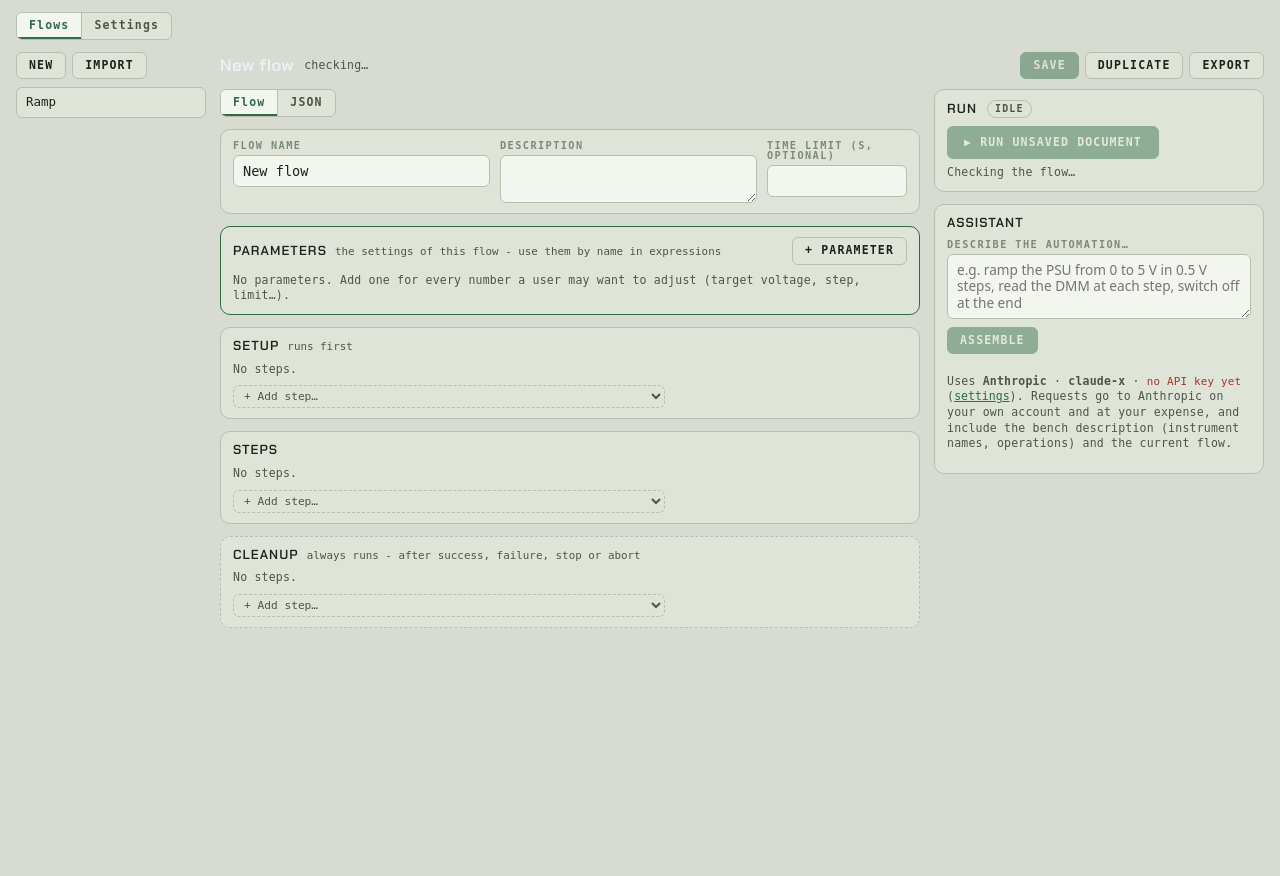
Test case: run panel › cancel in the arm dialog sends nothing more; busy (409) is shown
The width and height of the screenshot is (1280, 876).
Click the button "Ramp": (111, 102) x1=16 y1=87 x2=206 y2=118
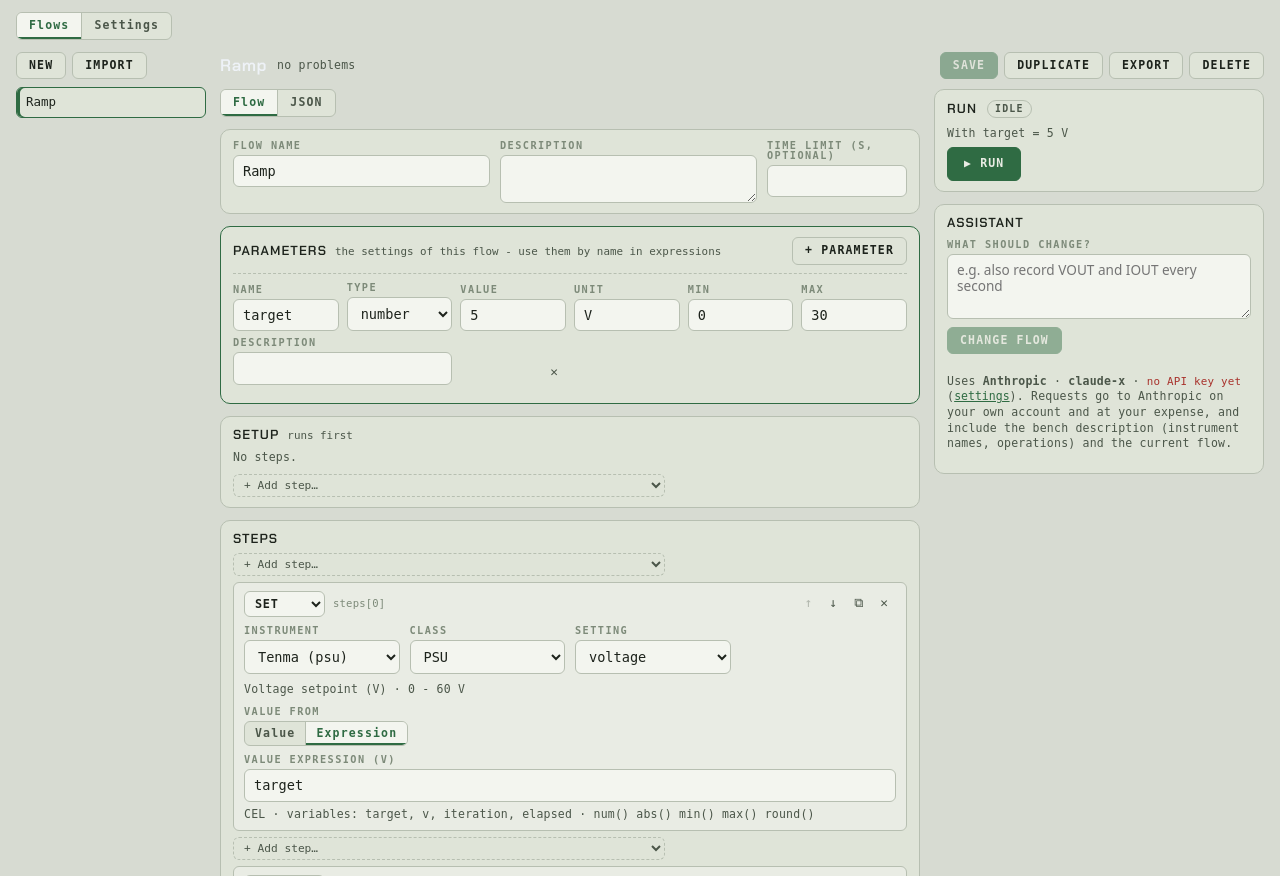
Expected: the button "▶ Run" is enabled
Click the button "▶ Run": (984, 164) x1=947 y1=148 x2=1021 y2=181
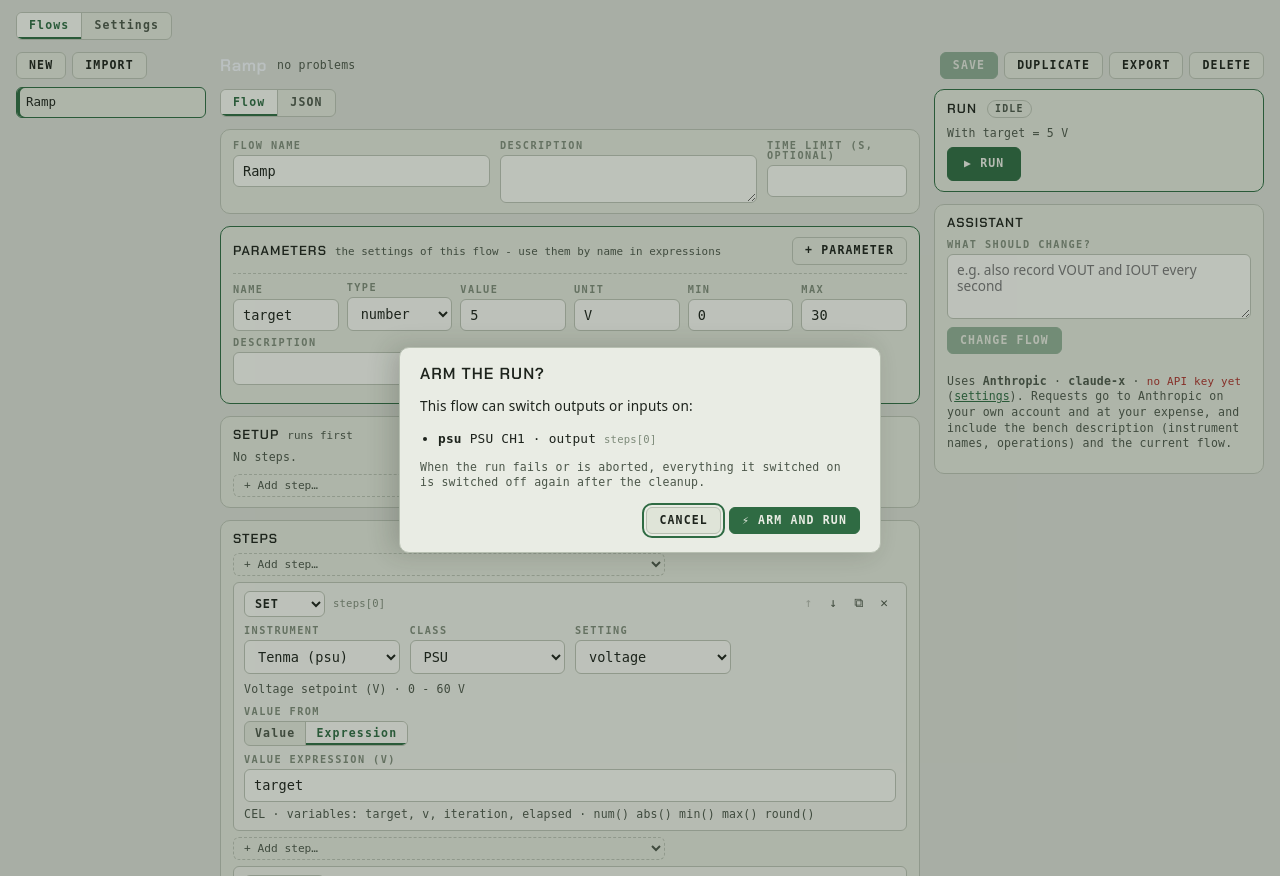
Click the button "Cancel": (684, 520) x1=646 y1=507 x2=721 y2=534
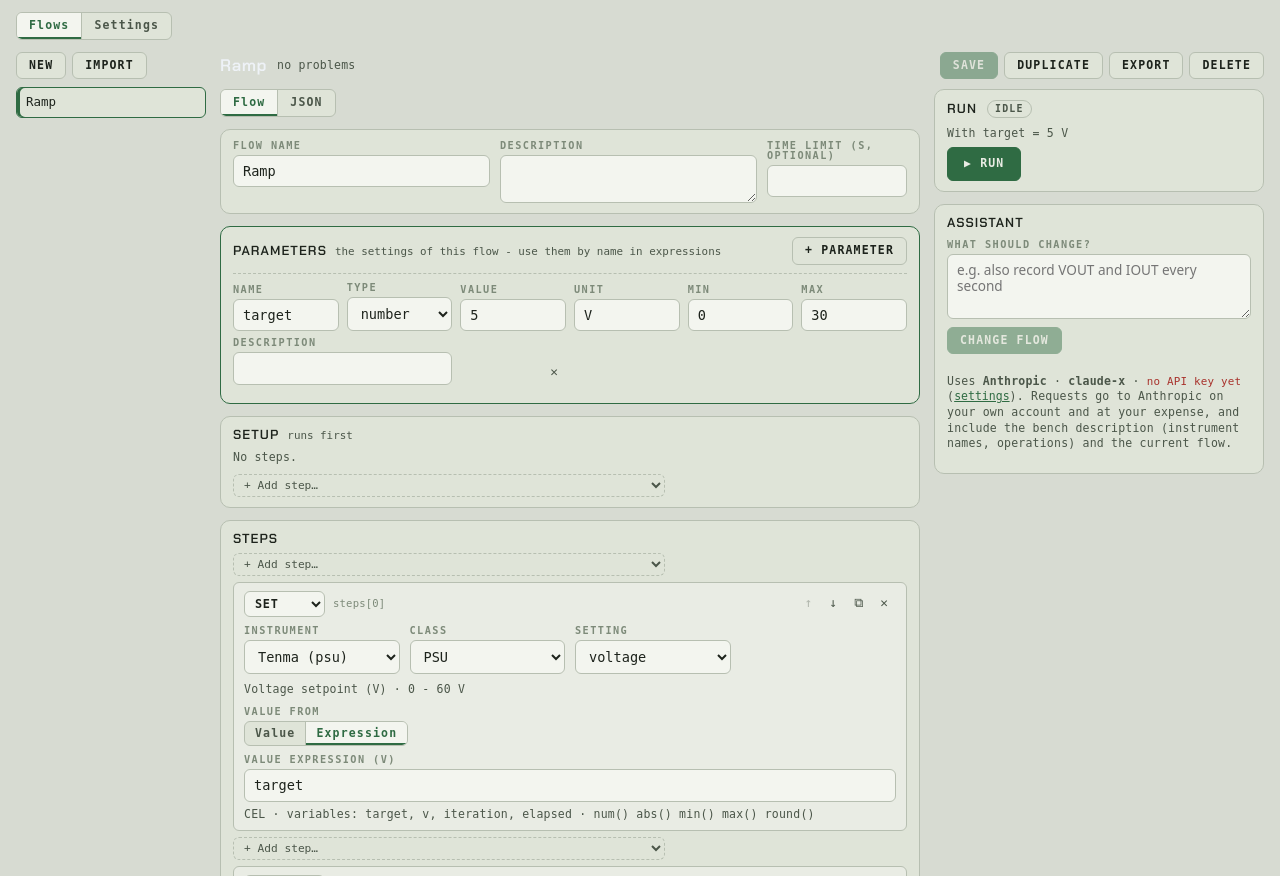
Click the button "▶ Run": (984, 164) x1=947 y1=148 x2=1021 y2=181
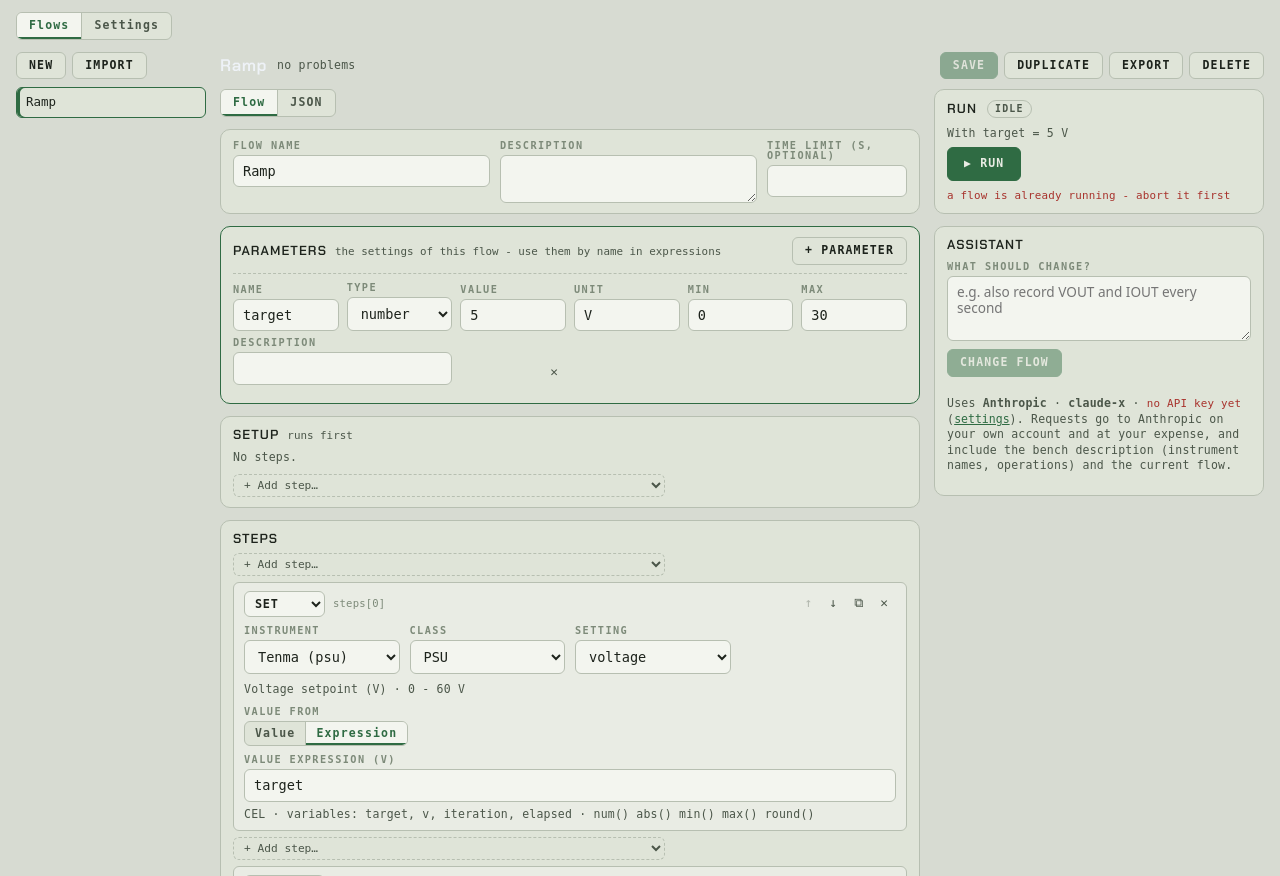
Expected: the text "a flow is already running - abort it first" is shown, x1=947 y1=189 x2=1251 y2=203
